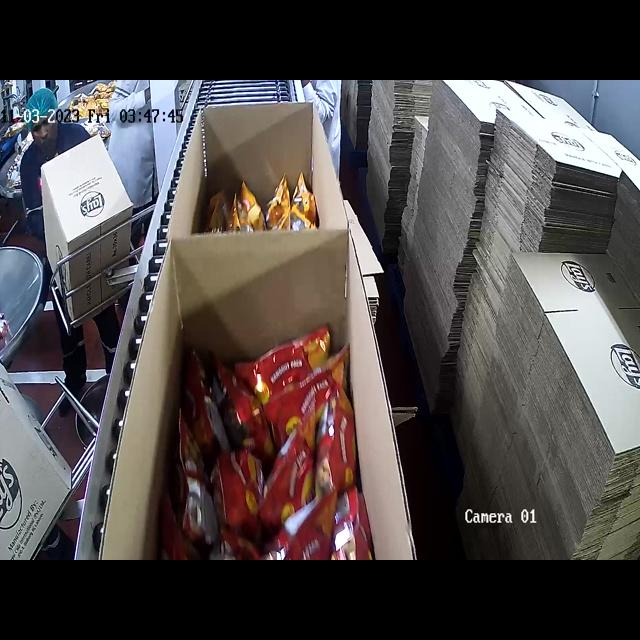cheese: (210, 165, 322, 232)
masala: (179, 364, 364, 560)
